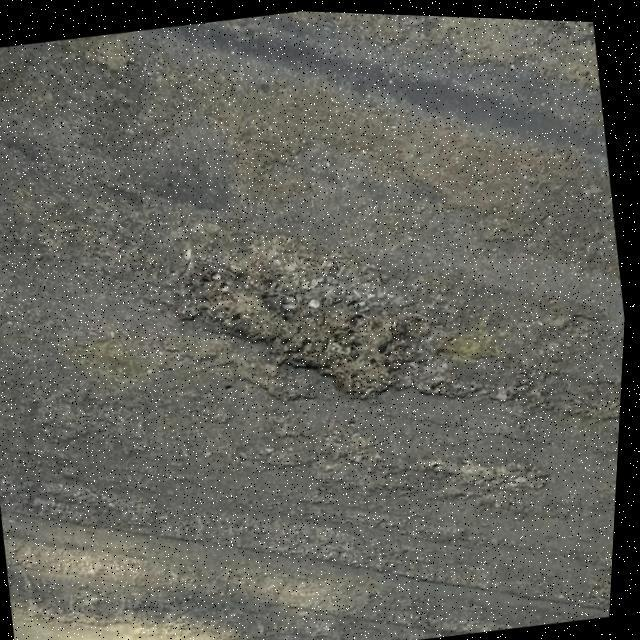pothole: (152, 220, 462, 443)
